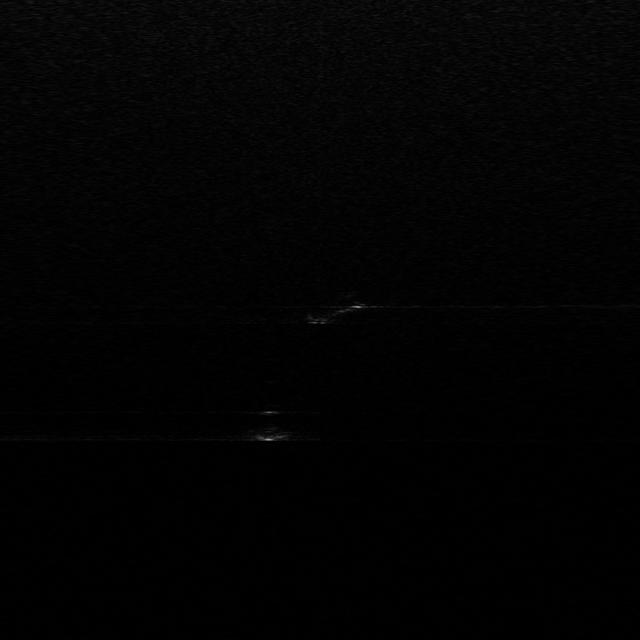ball: (240, 409, 294, 439)
tyre: (308, 287, 366, 325)
